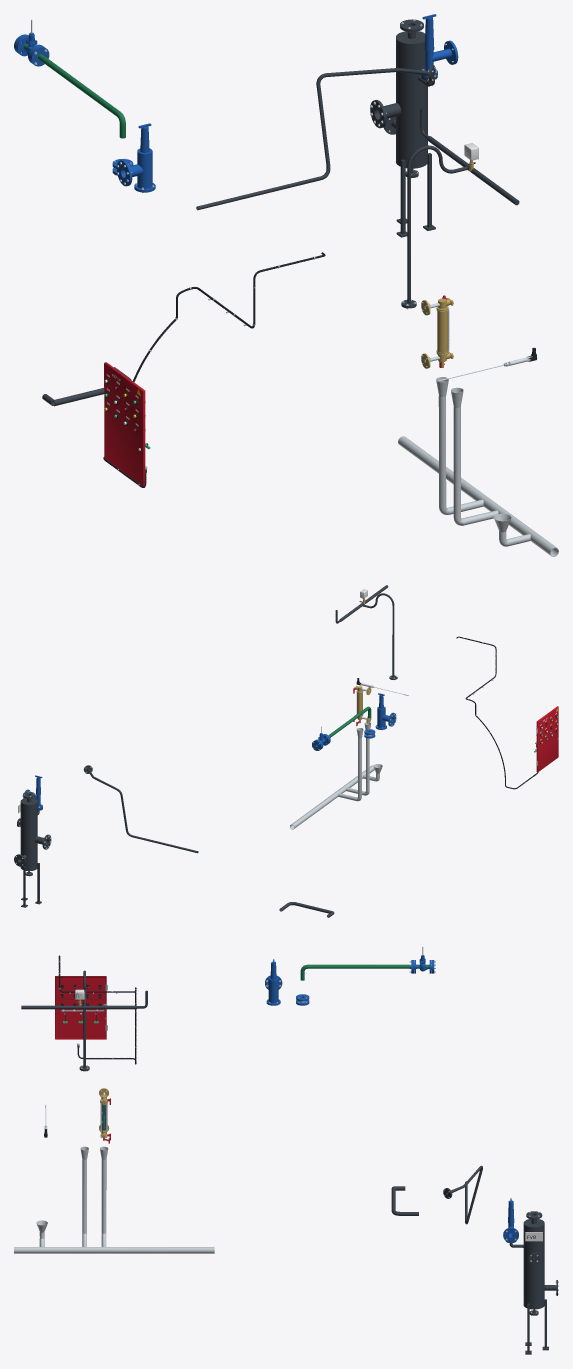
The picture shows the model from 3 angles, top to bottom: view 1: azimuth 30°, elevation 25°; view 2: azimuth 150°, elevation 25°; view 3: azimuth 270°, elevation 25°; orthographic projection. The views are drawn at different scales.
Visible parts, largest first — view 1: separator_fv8 / dark, local_open_drains / steel, cabinet_door / cabinet_door_5.npz, pressure_header / dark, tds_without_fv / dark, safety_2 / blue, sight_glasses_2 / sight_glasses_2_0.npz, wiring_lcs600 / black, flash_steam_common / blue, direct_inlet / green; view 2: separator_fv8 / dark, local_open_drains / steel, cabinet_door / cabinet_door_5.npz, pressure_header / dark, tds_without_fv / dark, wiring_lcs600 / black; view 3: cabinet_door / cabinet_door_5.npz, local_open_drains / steel, separator_fv8 / dark, pressure_header / dark, direct_inlet / green.
Part boxes in pixels (box(x1,y1,x2,y2)): separator_fv8 / dark: box(370, 19, 437, 237); local_open_drains / steel: box(398, 377, 558, 556); cabinet_door / cabinet_door_5.npz: box(104, 362, 145, 486); pressure_header / dark: box(401, 108, 519, 308); tds_without_fv / dark: box(196, 65, 435, 210); safety_2 / blue: box(117, 123, 155, 192); sight_glasses_2 / sight_glasses_2_0.npz: box(421, 295, 453, 368); wiring_lcs600 / black: box(103, 252, 325, 487); flash_steam_common / blue: box(421, 14, 458, 78); direct_inlet / green: box(38, 54, 125, 138); separator_fv8 / dark: box(14, 792, 51, 907); local_open_drains / steel: box(290, 722, 382, 829); cabinet_door / cabinet_door_5.npz: box(536, 706, 558, 772); pressure_header / dark: box(335, 585, 397, 679); tds_without_fv / dark: box(83, 765, 198, 853); wiring_lcs600 / black: box(456, 636, 538, 789); cabinet_door / cabinet_door_5.npz: box(55, 976, 107, 1039); local_open_drains / steel: box(14, 1146, 214, 1253); separator_fv8 / dark: box(506, 1211, 557, 1354); pressure_header / dark: box(21, 970, 147, 1071); direct_inlet / green: box(300, 964, 411, 980).
Bounding box in the file's own units: 5.18 × 3.09 × 5.63.
